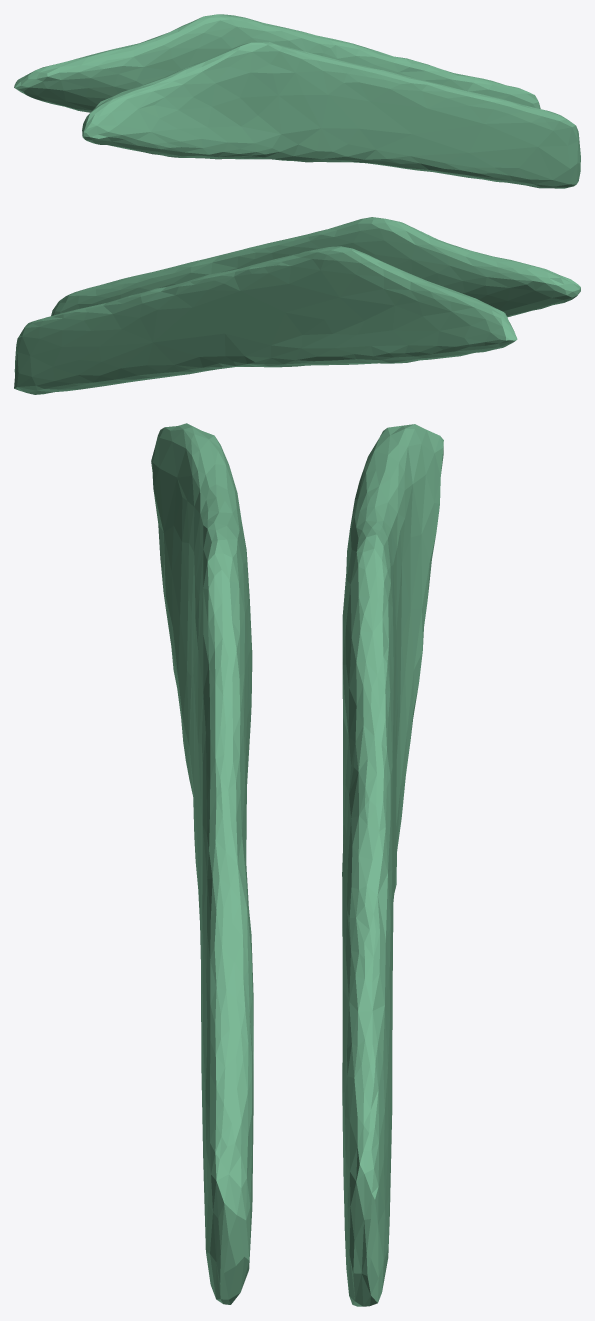
3 views of the same model, one above another, from view 1: azimuth 30°, elevation 25°; view 2: azimuth 150°, elevation 25°; view 3: azimuth 270°, elevation 25° (orthographic). The views are drawn at different scales.
Parts seen in each view (by area): view 1: 211.obj; view 2: 211.obj; view 3: 211.obj.
Part boxes in pixels (x1,y1,x2,y2): 211.obj: [14, 14, 580, 188]; 211.obj: [14, 217, 580, 394]; 211.obj: [151, 423, 443, 1306].
Bounding box in the file's own units: 3431 × 1439 × 843.
